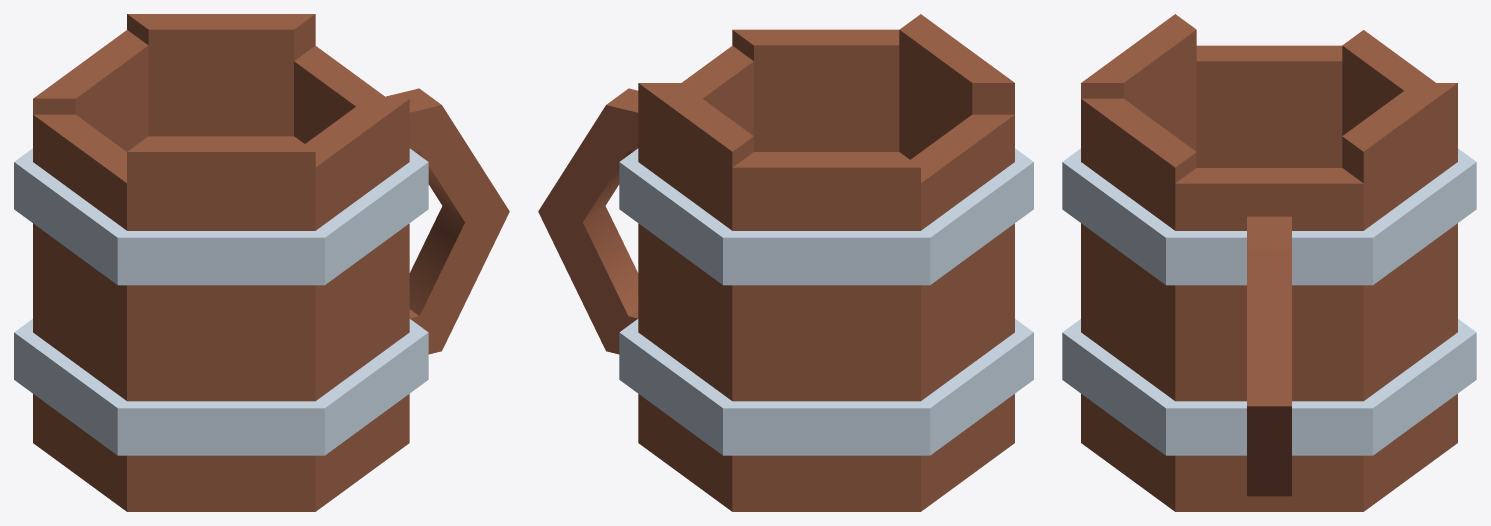
File: mug.fbx
3 views of the same model, side by side, from view 1: azimuth 30°, elevation 25°; view 2: azimuth 150°, elevation 25°; view 3: azimuth 270°, elevation 25° (orthographic).
Visible parts, largest first — view 1: mug; view 2: mug; view 3: mug.
Boxes of the visible parts, x1,y1,x2,y2 form: mug: (14,14,509,511); mug: (538,14,1033,511); mug: (1062,14,1476,511).
Bounding box in the file's own units: 3.44 × 2.73 × 2.85.
